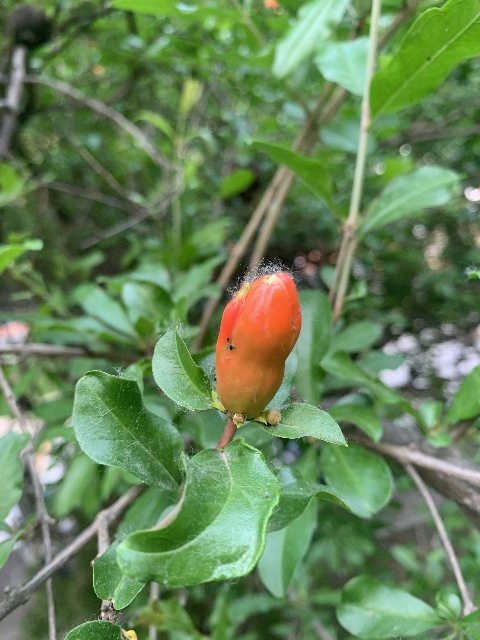bud: (214, 270, 301, 415)
